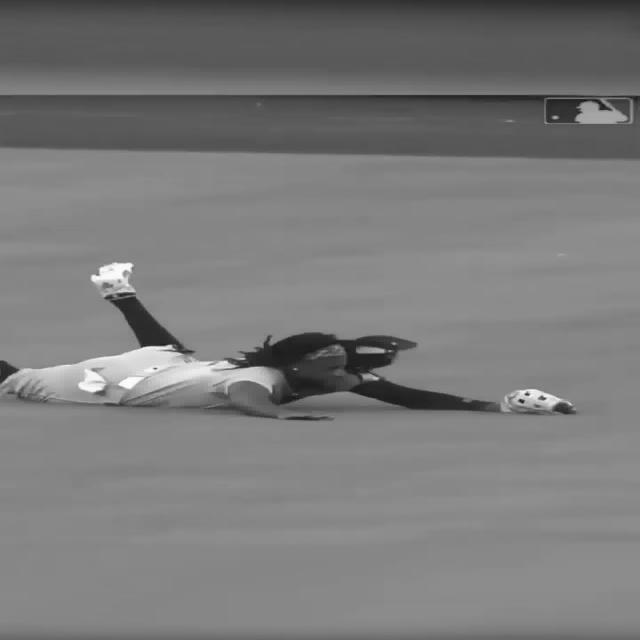baseball_glove: (503, 386, 578, 412)
shoe: (84, 260, 142, 287)
